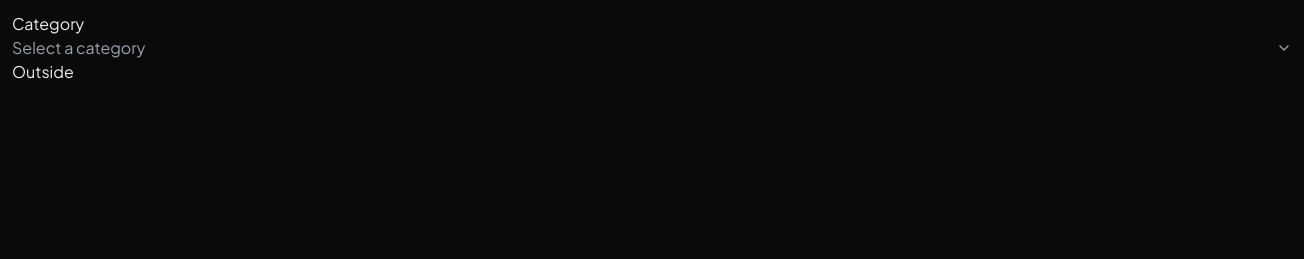
Select › opens on click and picks an option with the mouse
Click the button "Select a category". click: (79, 48)
box: [12,36,1292,60]
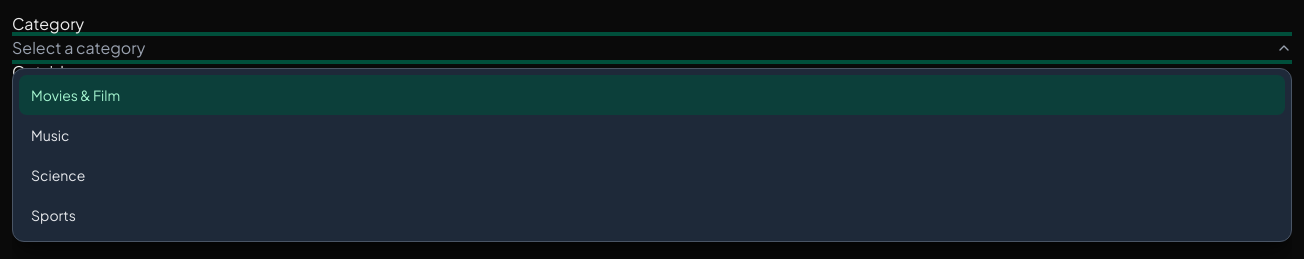
expect the button "Select a category" is expanded: met, box [12,36,1292,60]
Click the option "Science". click: (58, 175)
box: [31,166,85,184]
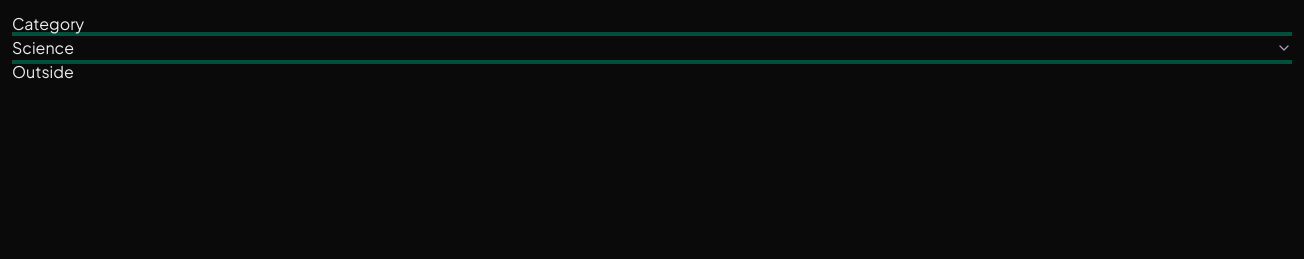
expect the list is gone: met
expect the button named "category" reads "Science": met, box [12,36,1292,60]
